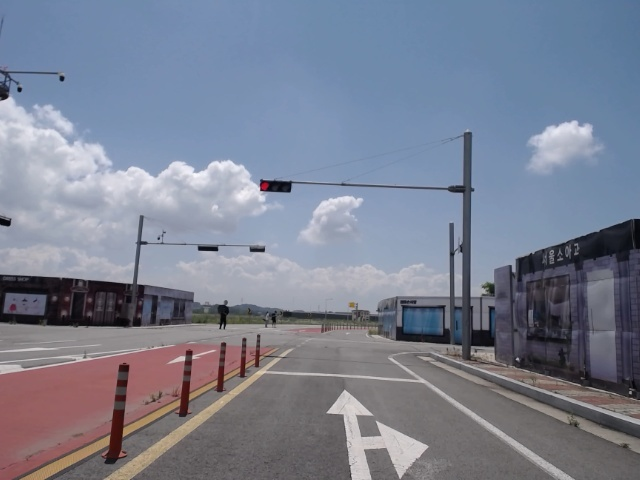red_3: (258, 178, 292, 193)
